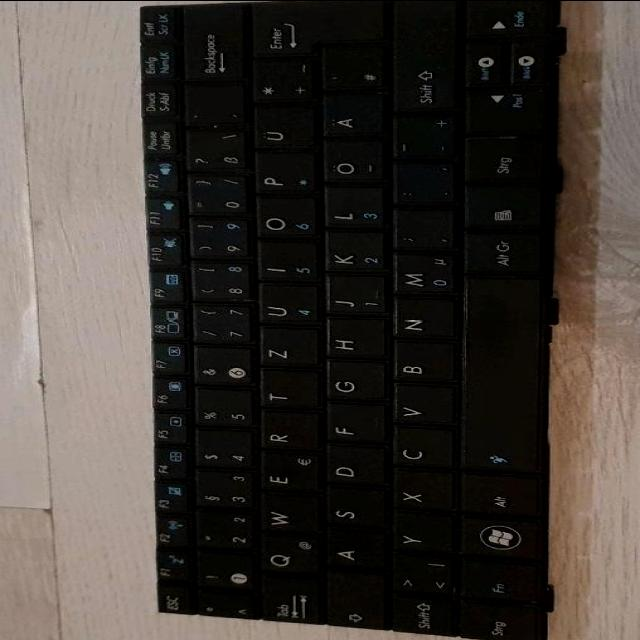0: (185, 175, 248, 216)
1: (194, 553, 257, 590)
2: (193, 511, 256, 550)
3: (192, 471, 255, 509)
4: (192, 431, 252, 468)
5: (192, 389, 252, 427)
6: (190, 348, 252, 386)
7: (192, 304, 251, 344)
8: (189, 262, 252, 302)
9: (187, 218, 250, 258)
a: (324, 530, 386, 570)
accent: (182, 84, 245, 126)
ae: (320, 93, 384, 137)
alt-left: (456, 475, 539, 517)
altgr-right: (460, 232, 542, 274)
b: (389, 342, 455, 383)
c: (390, 428, 454, 469)
caret: (198, 594, 256, 620)
comma: (389, 209, 455, 251)
d: (321, 445, 387, 486)
del: (180, 6, 246, 82)
e: (257, 453, 319, 493)
enter: (248, 0, 386, 58)
f: (323, 405, 386, 443)
g: (322, 362, 386, 402)
h: (323, 319, 386, 359)
hash: (318, 45, 386, 91)
i: (255, 242, 318, 282)
j: (323, 276, 386, 316)
k: (322, 231, 386, 272)
keyboard: (134, 0, 566, 640)
l: (322, 186, 386, 228)
less: (388, 555, 455, 595)
m: (390, 254, 458, 296)
minus: (389, 115, 459, 159)
n: (389, 299, 455, 339)
o: (252, 197, 318, 239)
oe: (320, 141, 386, 183)
p: (251, 152, 315, 194)
plus: (248, 59, 315, 103)
point: (389, 163, 455, 206)
q: (257, 535, 319, 576)
r: (257, 411, 319, 452)
s: (324, 488, 387, 528)
shift-left: (387, 596, 455, 638)
shift-lock: (324, 573, 387, 631)
shift-right: (389, 0, 458, 113)
space: (458, 276, 542, 472)
ss: (183, 131, 246, 171)
strg-left: (458, 603, 540, 640)
strg-right: (460, 138, 543, 184)
t: (256, 371, 319, 409)
tab: (259, 578, 323, 625)
u: (255, 285, 319, 326)
ue: (250, 105, 318, 149)
v: (391, 385, 454, 426)
w: (256, 496, 319, 534)
x: (388, 470, 454, 511)
y: (390, 514, 454, 554)
z: (256, 328, 319, 368)
